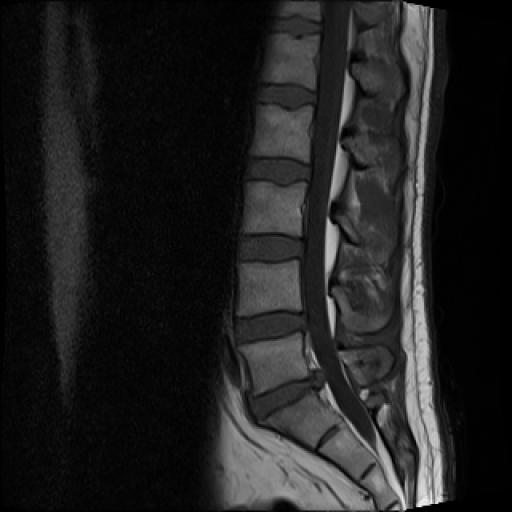L1: (261, 33, 320, 90)
L2: (250, 104, 313, 162)
L3: (244, 182, 306, 236)
L4: (237, 260, 302, 316)
L5: (238, 333, 310, 394)
S1: (257, 390, 340, 450)
